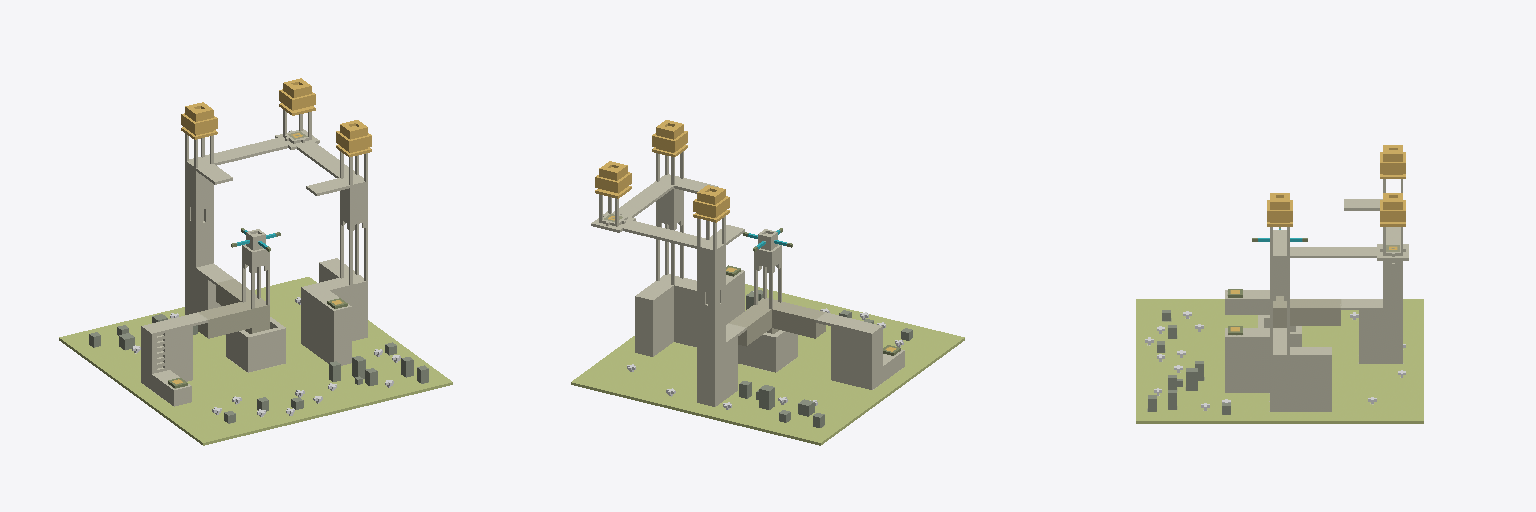
The picture shows the model from 3 angles: view 1: azimuth 30°, elevation 25°; view 2: azimuth 150°, elevation 25°; view 3: azimuth 270°, elevation 25°; orthographic projection.
Visible parts, largest first — view 1: node; view 2: node; view 3: node.
Part boxes in pixels (bbox=[...]): node: bbox=[59, 78, 452, 445]; node: bbox=[571, 120, 964, 445]; node: bbox=[1136, 145, 1423, 423].
Bounding box in the file's own units: 97 × 79 × 97.
1 materials, 1 textured.